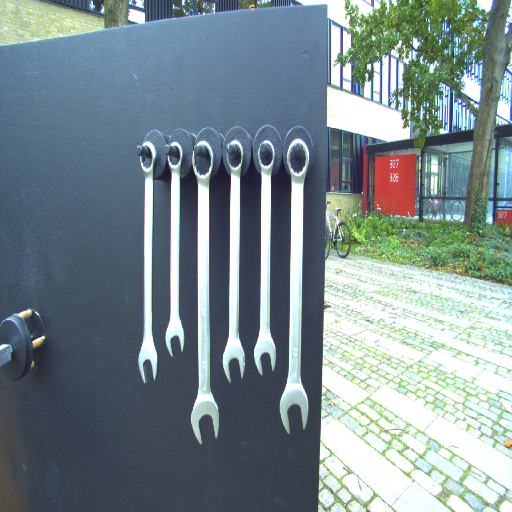bottom: (188, 393, 222, 445), (278, 383, 310, 435), (134, 338, 160, 385), (222, 335, 247, 383), (253, 332, 277, 377), (163, 317, 188, 359)
top: (284, 138, 312, 180), (221, 136, 248, 175), (191, 140, 216, 181), (253, 136, 278, 173), (137, 140, 158, 175), (163, 140, 185, 173)
